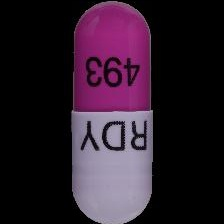55111-493: (0, 0, 224, 224)
